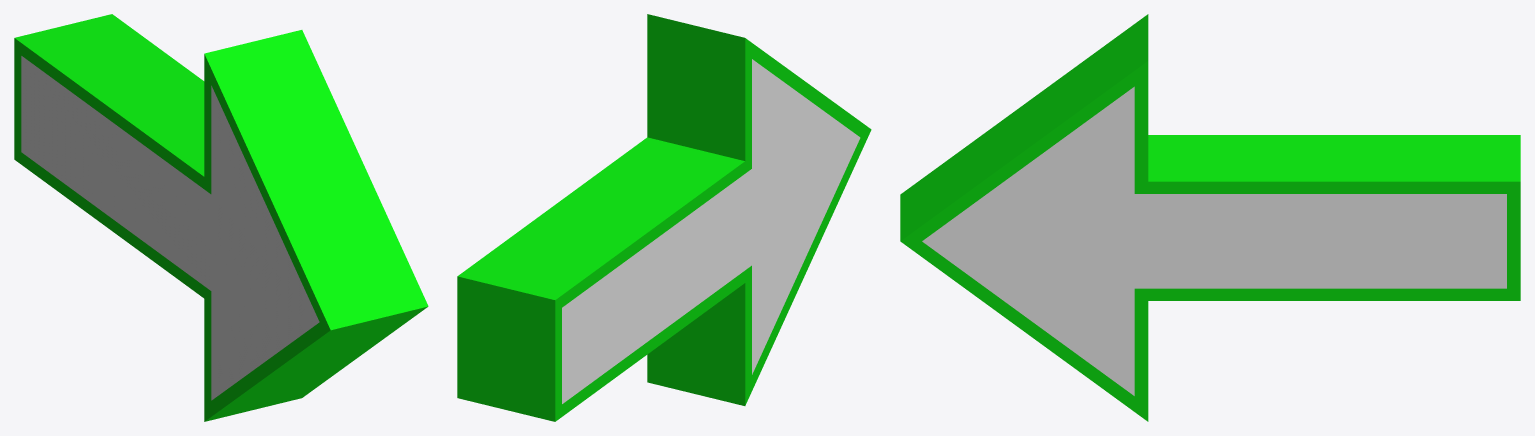
Rendered from Flecha.fbx.
3 renders of one model, left to right at view 1: azimuth 30°, elevation 25°; view 2: azimuth 150°, elevation 25°; view 3: azimuth 270°, elevation 25°, orthographic. The views are drawn at different scales.
Parts seen in each view (by area): view 1: Plane005; view 2: Plane005; view 3: Plane005.
Part boxes in pixels (left/top/right/bottom): Plane005: left=14, top=14, right=428, bottom=421; Plane005: left=457, top=14, right=871, bottom=421; Plane005: left=900, top=14, right=1520, bottom=421.
Size of the model in its own units: 30 by 108 by 168.
